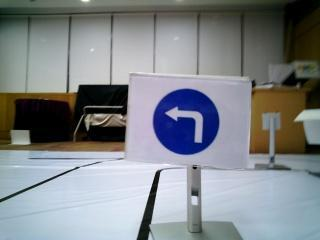left: (130, 70, 247, 167)
